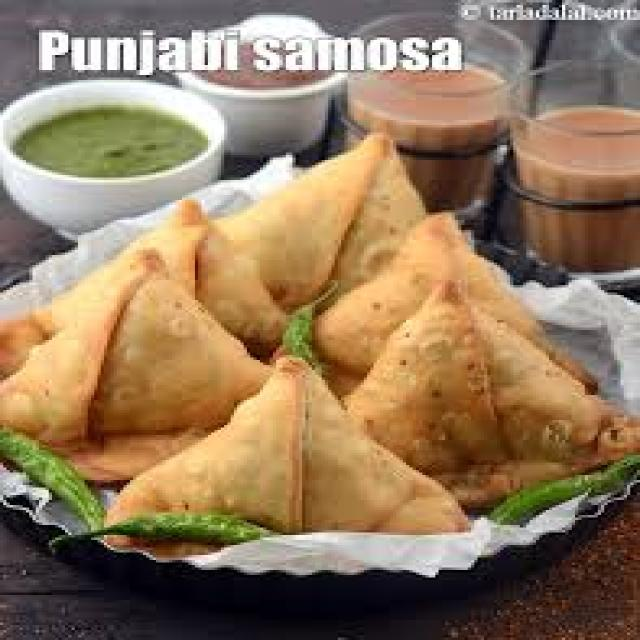SAMOSA: (341, 279, 637, 514), (0, 252, 276, 489), (101, 359, 464, 532), (0, 193, 278, 379), (218, 138, 426, 320), (328, 211, 546, 371)
